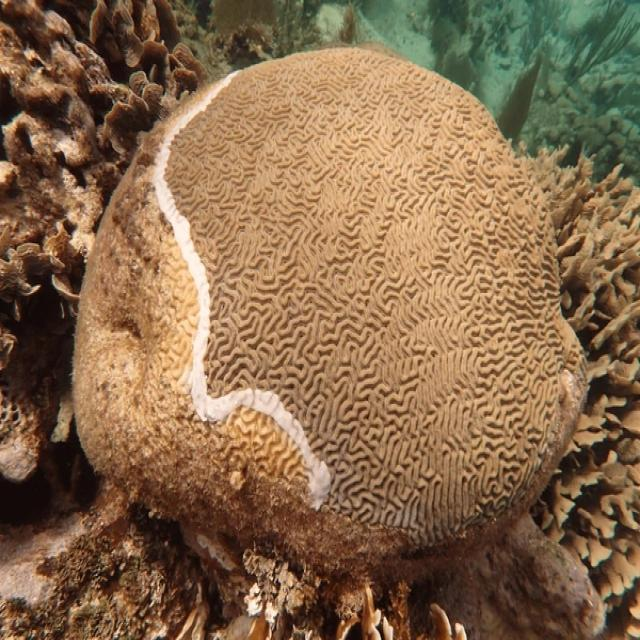Coral: (70, 46, 590, 616), (504, 135, 640, 640), (0, 0, 205, 321)
